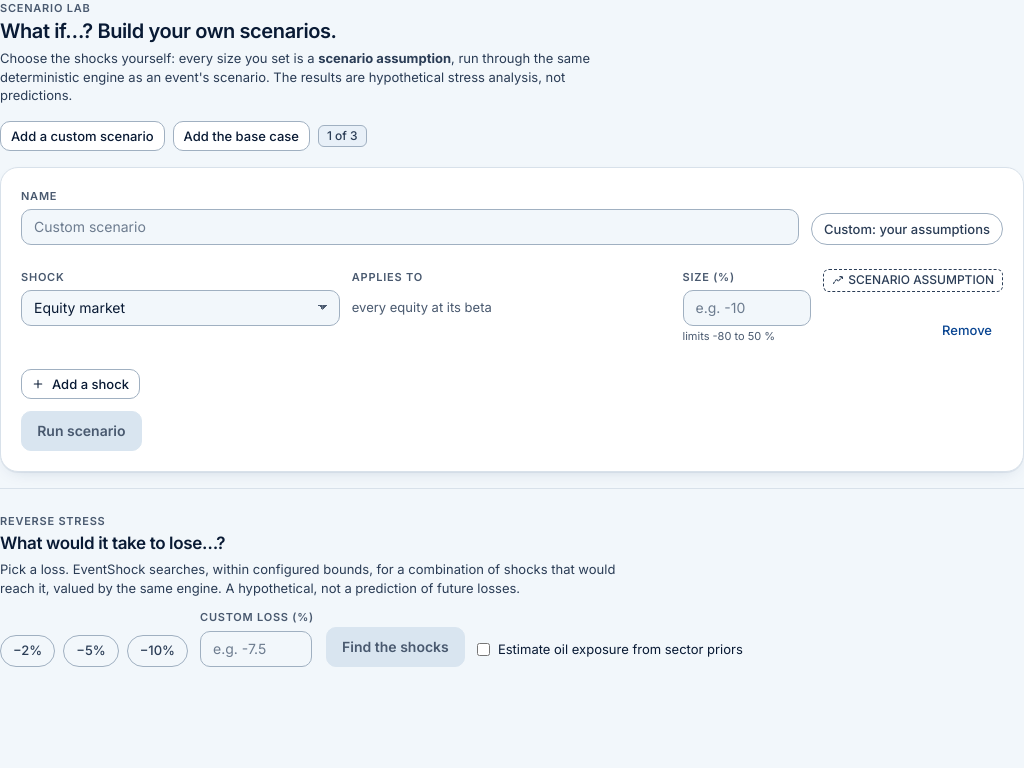
Test: ScenarioLab › builds a scenario, converts the typed percentage to a fraction and shows the labelled result
Expected: the heading "What if…? Build your own scenarios." is shown, x1=0 y1=19 x2=337 y2=43
Expected: the button "Run scenario" is disabled, x1=21 y1=411 x2=142 y2=451
Type "-10" into the field named "size of assumption 1" at x=746, y=308, box x1=682 y1=290 x2=810 y2=326
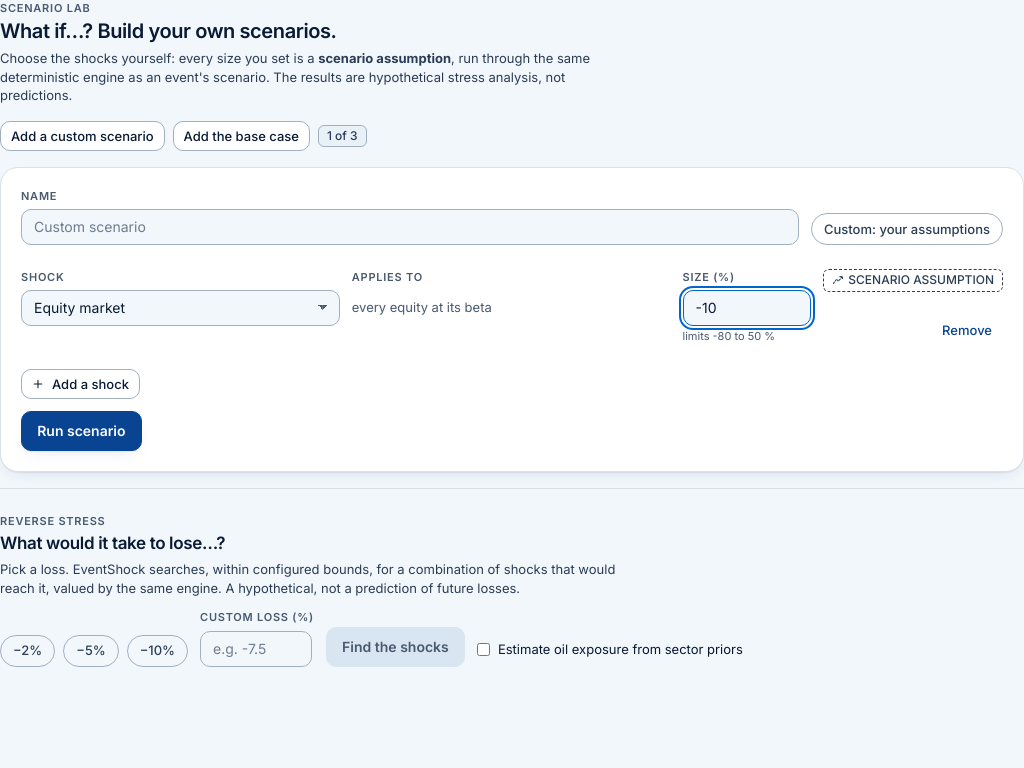
Expected: the button "Run scenario" is enabled
Click the button "Run scenario" at x=81, y=431, box x1=21 y1=411 x2=142 y2=451
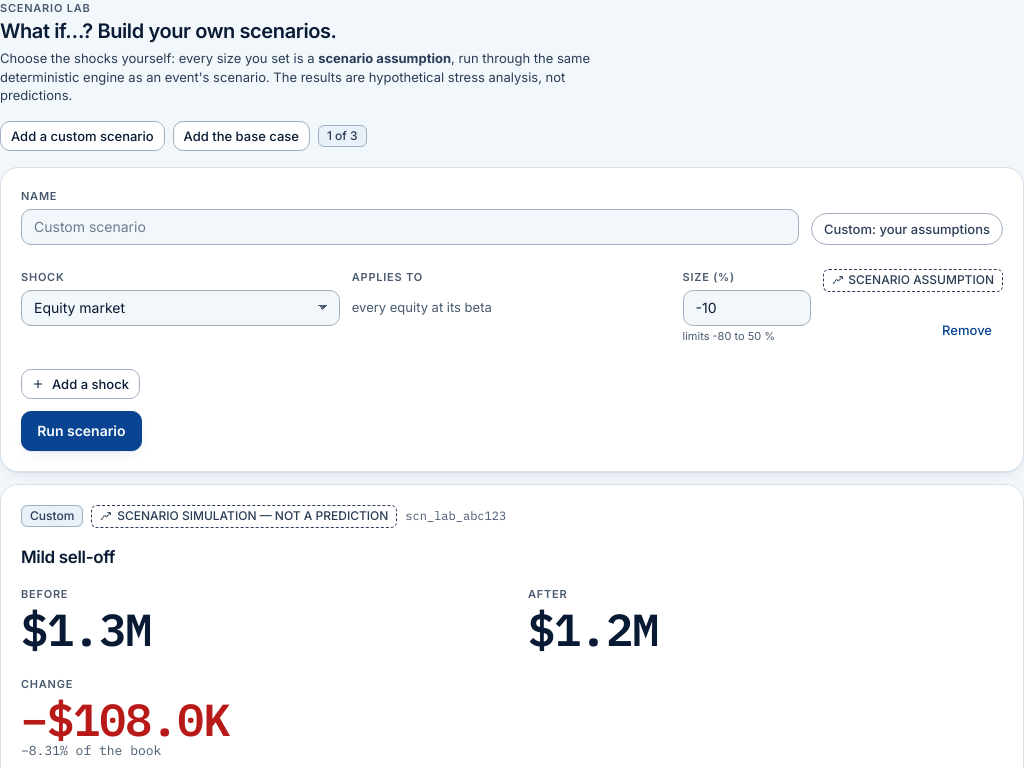
Expected: the text "SCENARIO SIMULATION — NOT A PREDICTION" is shown, x1=91 y1=505 x2=397 y2=528
